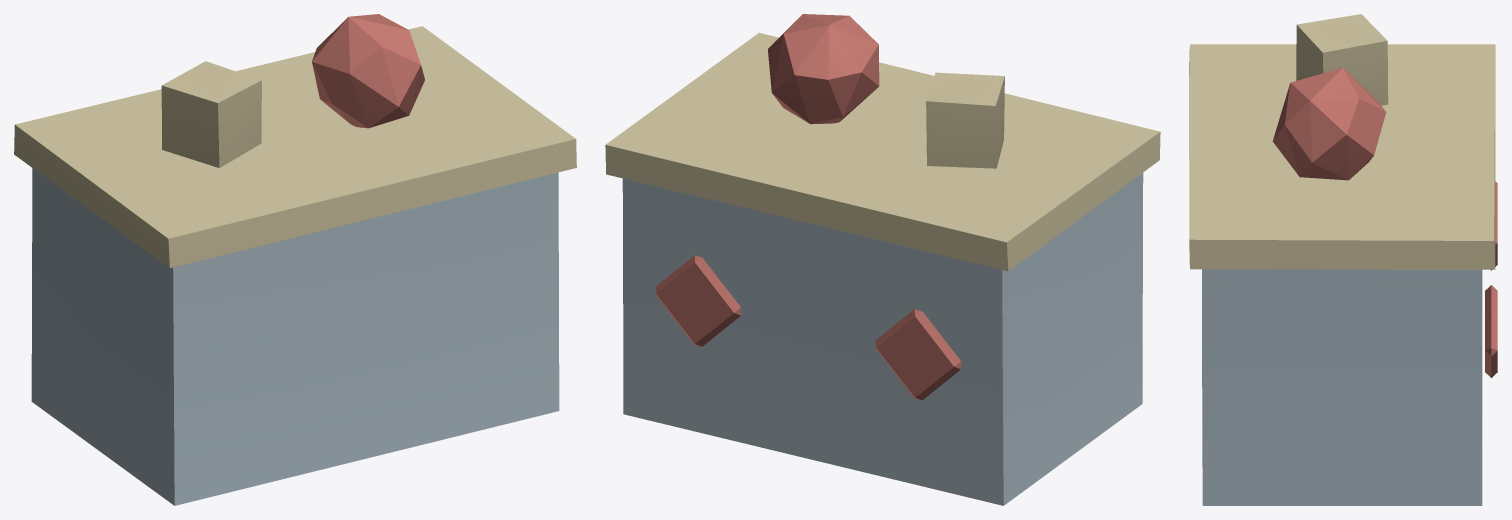
File: furn_toy_box__sky_low.glb
3 views of the same model, side by side, from view 1: azimuth 30°, elevation 25°; view 2: azimuth 150°, elevation 25°; view 3: azimuth 270°, elevation 25° (orthographic).
Size of the model in its own units: 0.7323 by 0.6457 by 0.4858.
